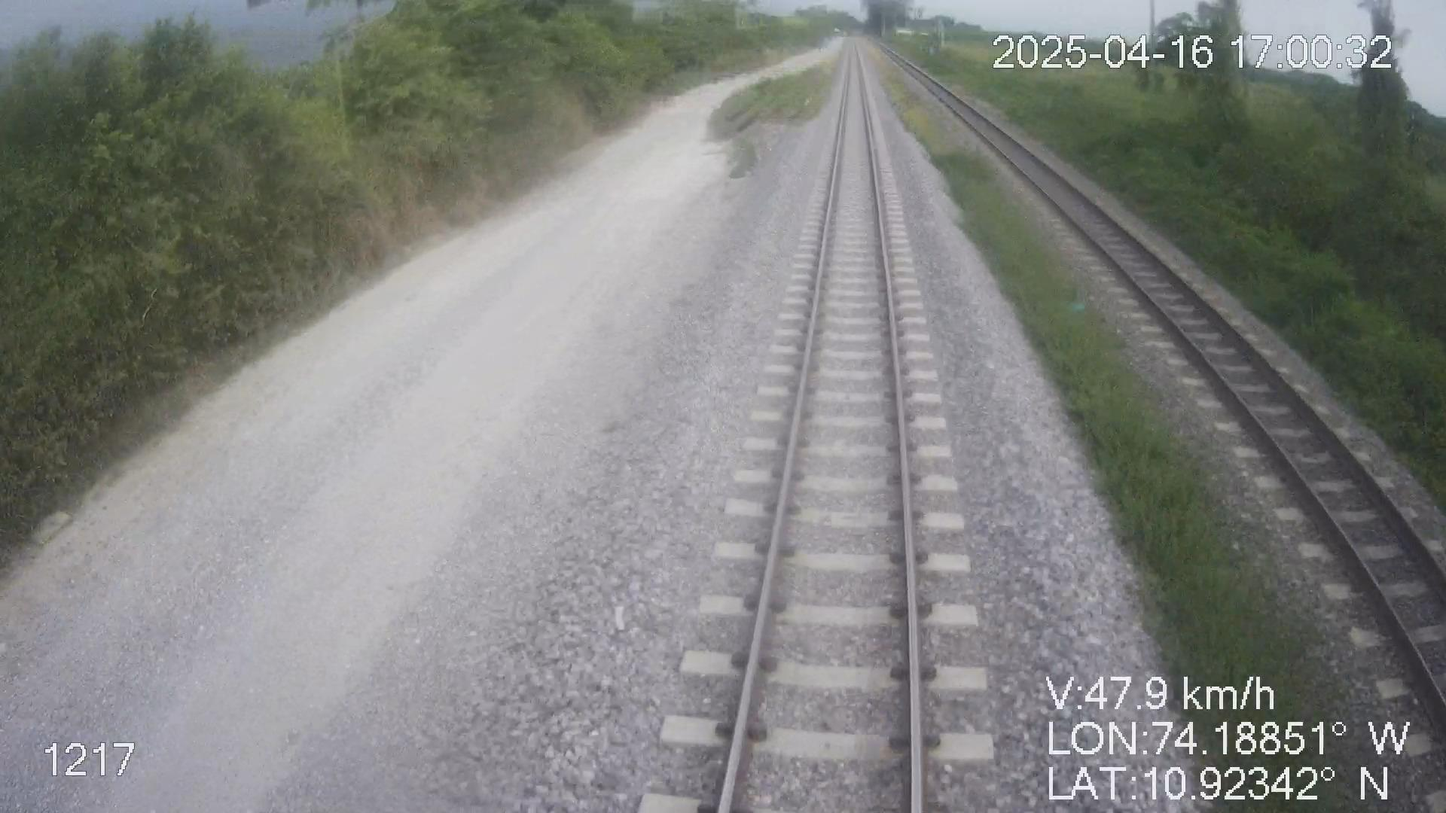Pasto: (0, 0, 850, 575), (893, 21, 1445, 507)
